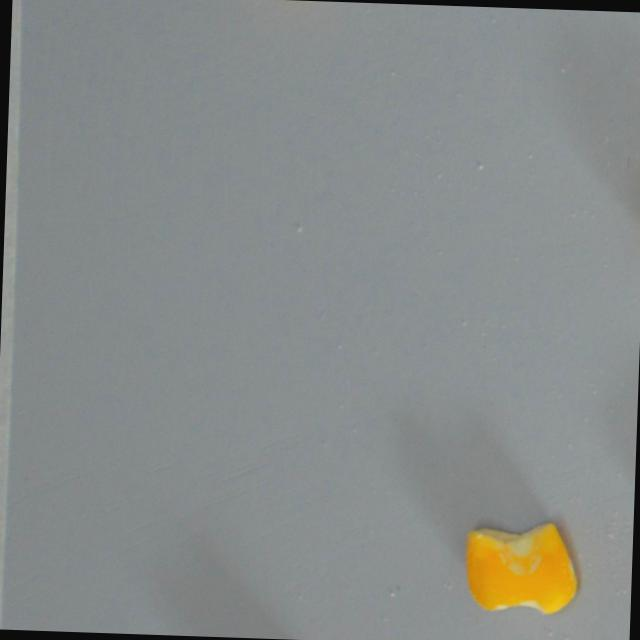no_canjicado: (459, 518, 578, 615)
